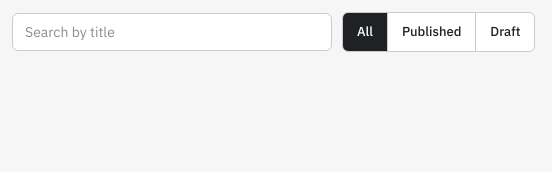
Test case: BookFilters › a pending search does not undo a status picked meanwhile
Type "moon" into the search field labelled "Search by title" at (172, 32), box x1=12 y1=13 x2=332 y2=51
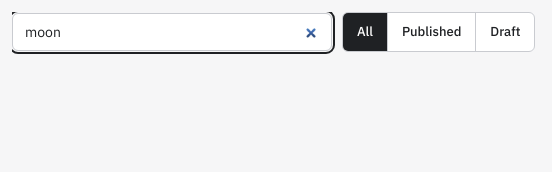
Click the radio button labelled "Draft" at (505, 32), box x1=475 y1=13 x2=534 y2=51
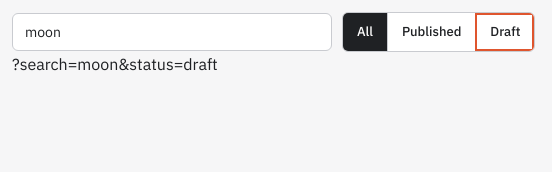
Expected: the text named "query" reads "?search=moon&status=draft", x1=12 y1=54 x2=218 y2=74
